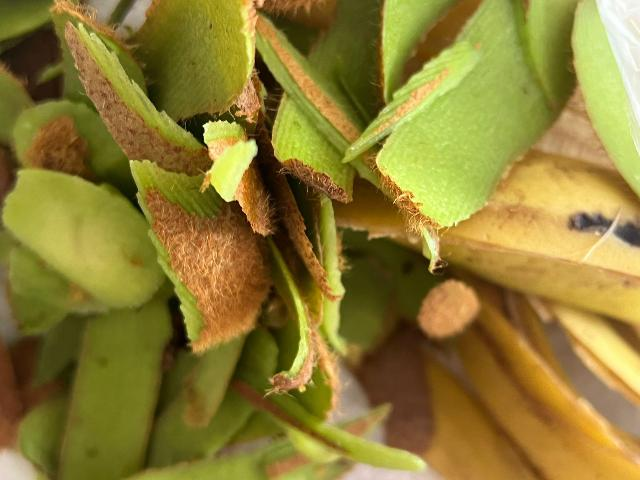Organik: (247, 21, 640, 219), (340, 140, 640, 309), (451, 302, 640, 480), (107, 172, 284, 326), (47, 12, 214, 175), (322, 50, 492, 168), (56, 306, 170, 480), (11, 171, 164, 298), (556, 5, 640, 197), (267, 205, 344, 410), (118, 3, 273, 99), (169, 336, 259, 480), (0, 308, 67, 465), (197, 113, 284, 226), (408, 276, 502, 339), (15, 115, 106, 170)
